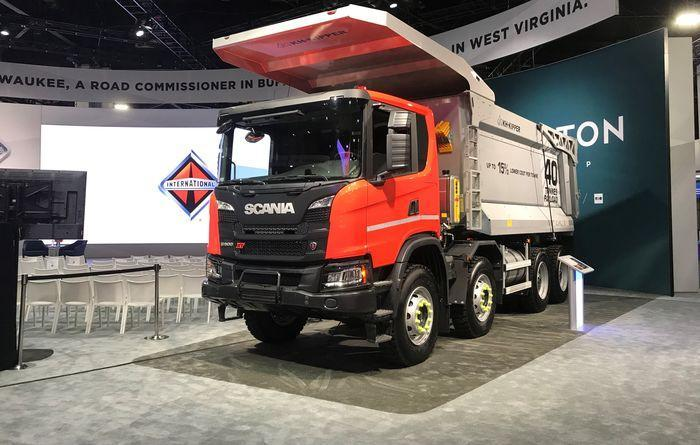truck: (181, 25, 591, 352)
